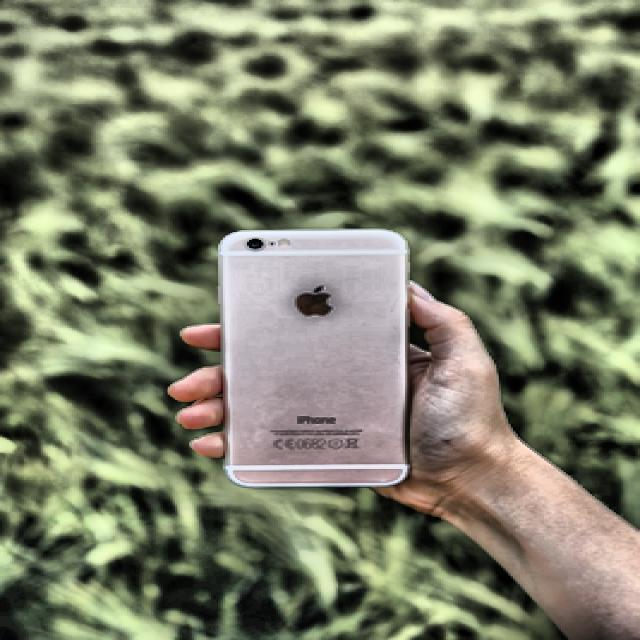Phone: (218, 230, 408, 488)
